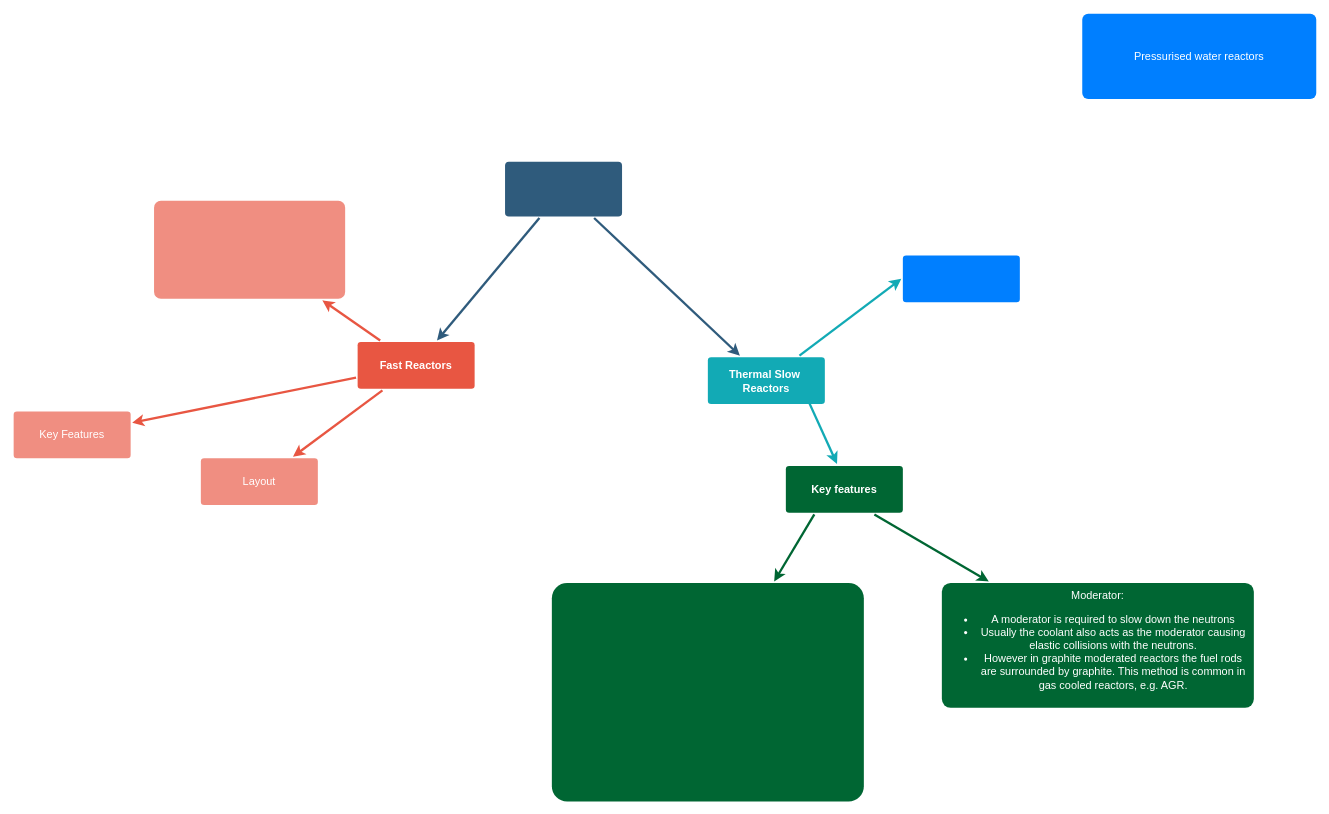
This 1329x814 diagram has some shape labels left out. The box of each missing label's shape, as (x1, y1, x2, y2) in pixels:
Advatages: bla Disadvantages: blla: (551, 583, 863, 801)
Common examples: Sodium cooled (SFR) Lead cooled (LFR) Gas cooled (GFR): (154, 200, 345, 298)
Examples: (902, 255, 1019, 302)
Reactor Types: (505, 161, 622, 216)
